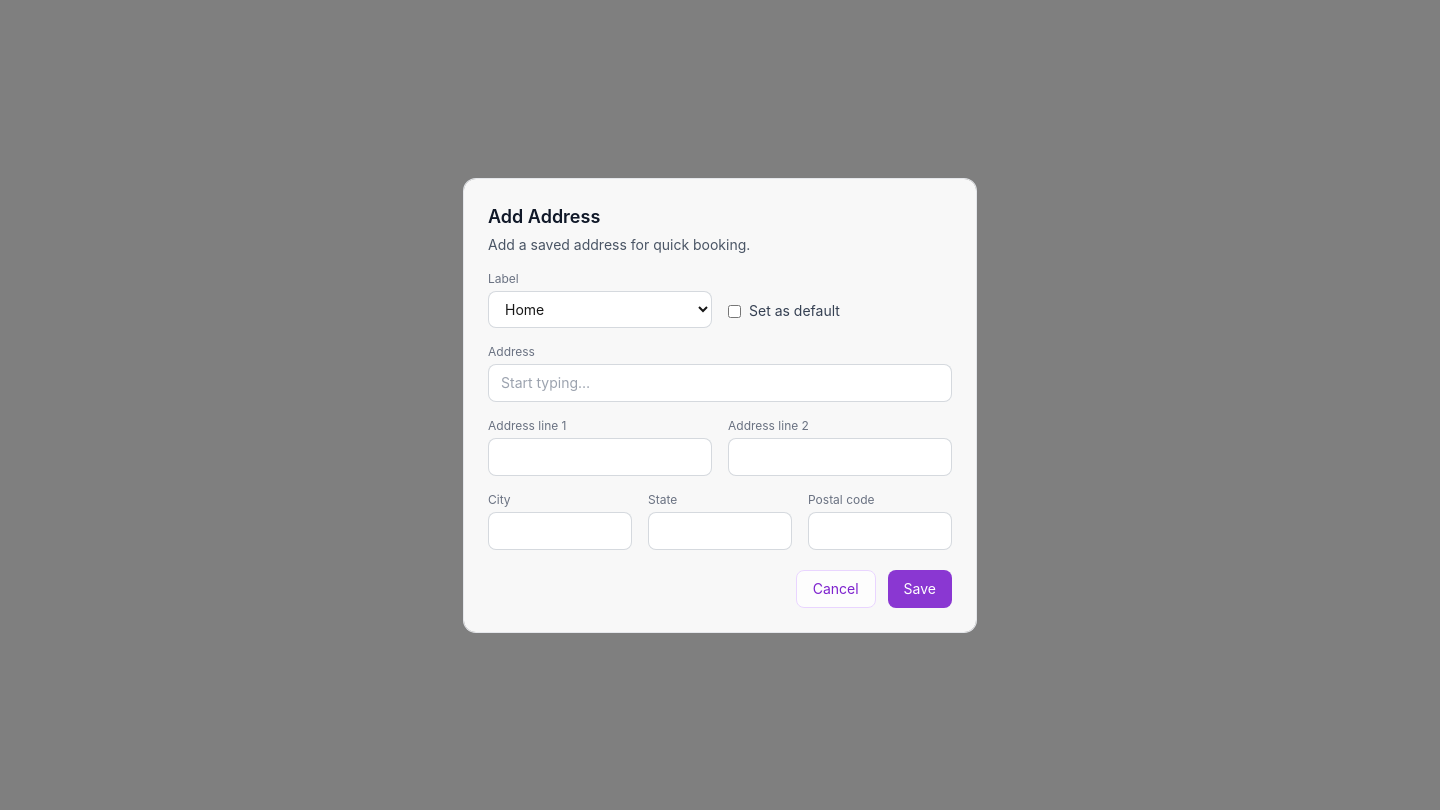
Test: AddressModal custom labels › requires a custom label when label is other
The width and height of the screenshot is (1440, 810).
Select "Other" in the dropdown at (600, 309), box [488,290,712,328]
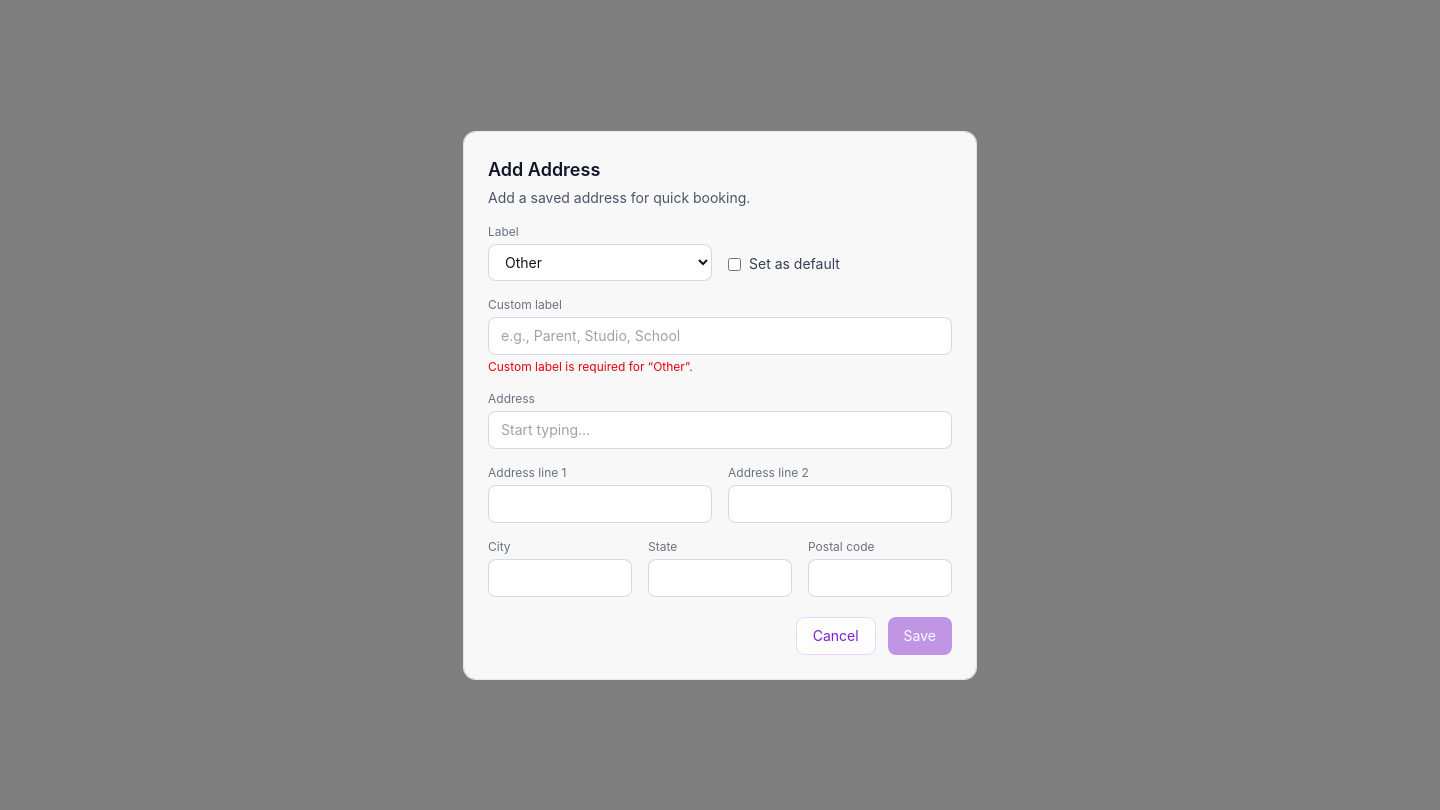
Check: the field with placeholder "e.g., Parent, Studio, School" is shown, box [488,316,952,354]
Check: the text "Custom label is required for “Other”." is shown, box [488,358,693,374]
Check: the button "Save" is disabled, box [888,616,952,654]
